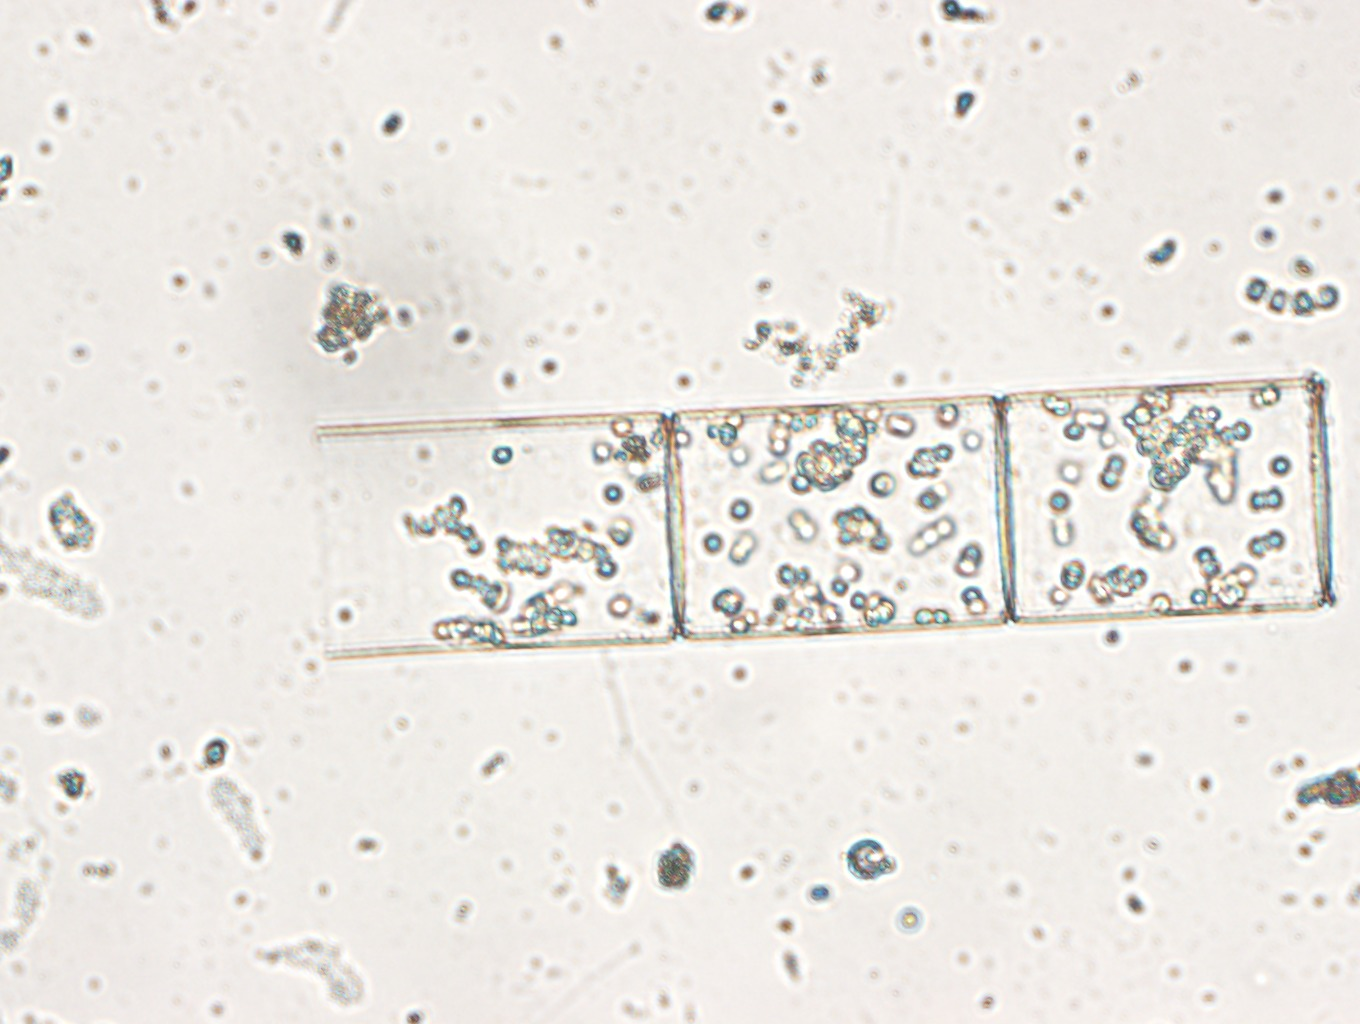guinardia flaccida: (306, 371, 1338, 653)
